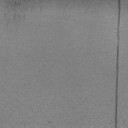surface scratch: (114, 0, 121, 128), (14, 2, 20, 6)
